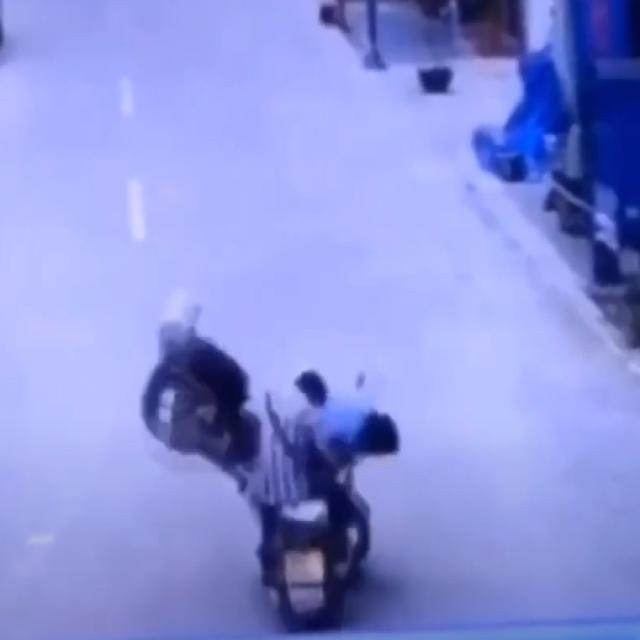accident: (140, 299, 398, 625)
